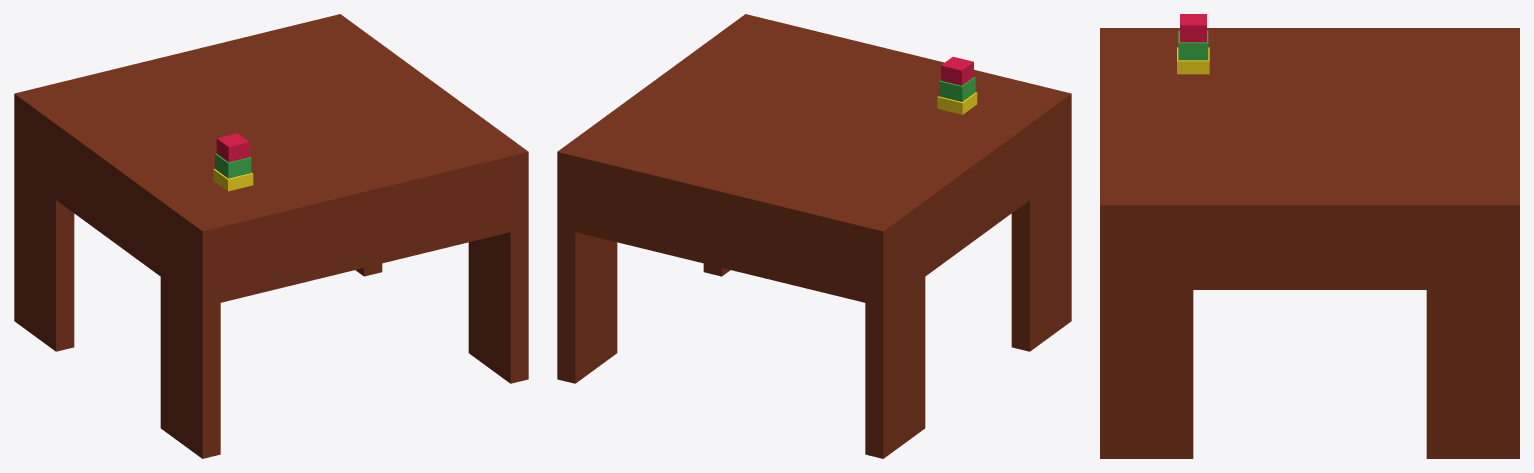
File: hanoi_world_3_boxes.dae
The picture shows the model from 3 angles, left to right: view 1: azimuth 30°, elevation 25°; view 2: azimuth 150°, elevation 25°; view 3: azimuth 270°, elevation 25°; orthographic projection. The views are drawn at different scales.
Visible parts, largest first — view 1: base (×7); view 2: base (×7); view 3: base (×6).
Part boxes in pixels (bbox=[...]): base (×7): bbox=[14, 14, 528, 458]; base (×7): bbox=[557, 14, 1071, 458]; base (×6): bbox=[1100, 14, 1519, 458].
Bounding box in the file's own units: 0.9 × 0.9 × 0.713.
